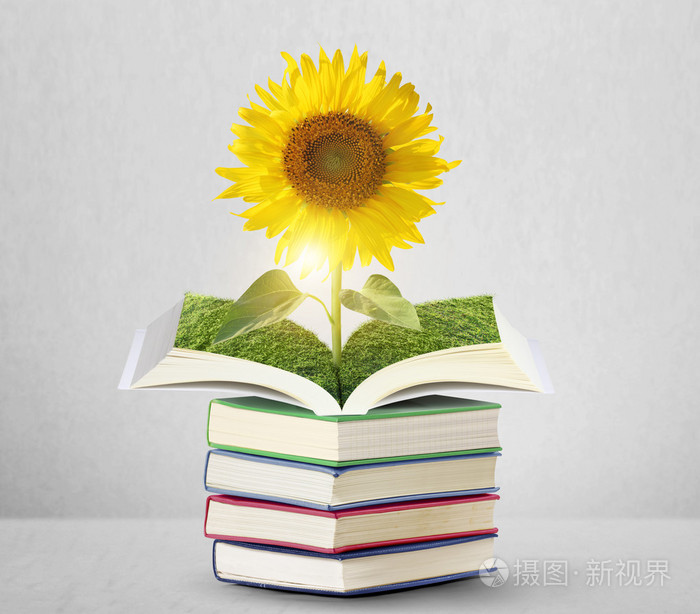book: (111, 292, 545, 417), (202, 397, 508, 465), (210, 529, 505, 592), (200, 448, 504, 507), (203, 494, 500, 548)
